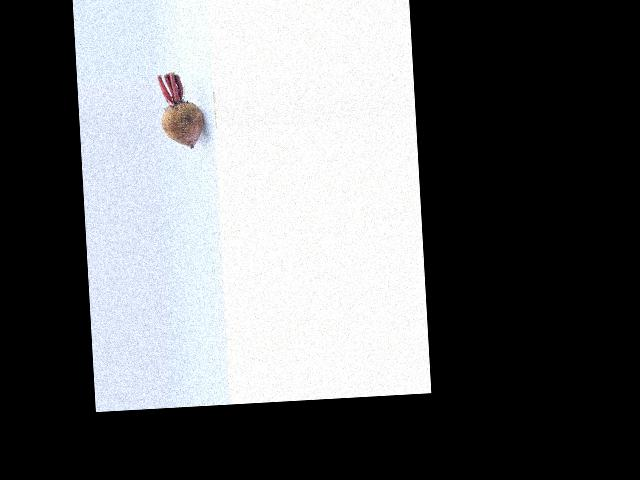beet: (158, 72, 204, 149)
